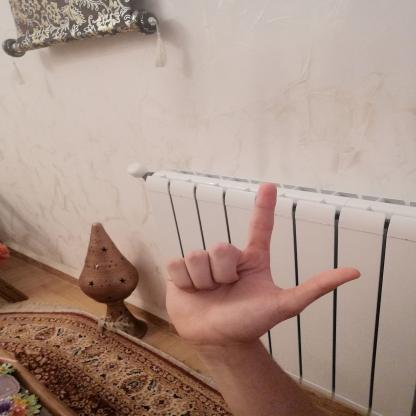LAAM: (142, 173, 375, 354)
